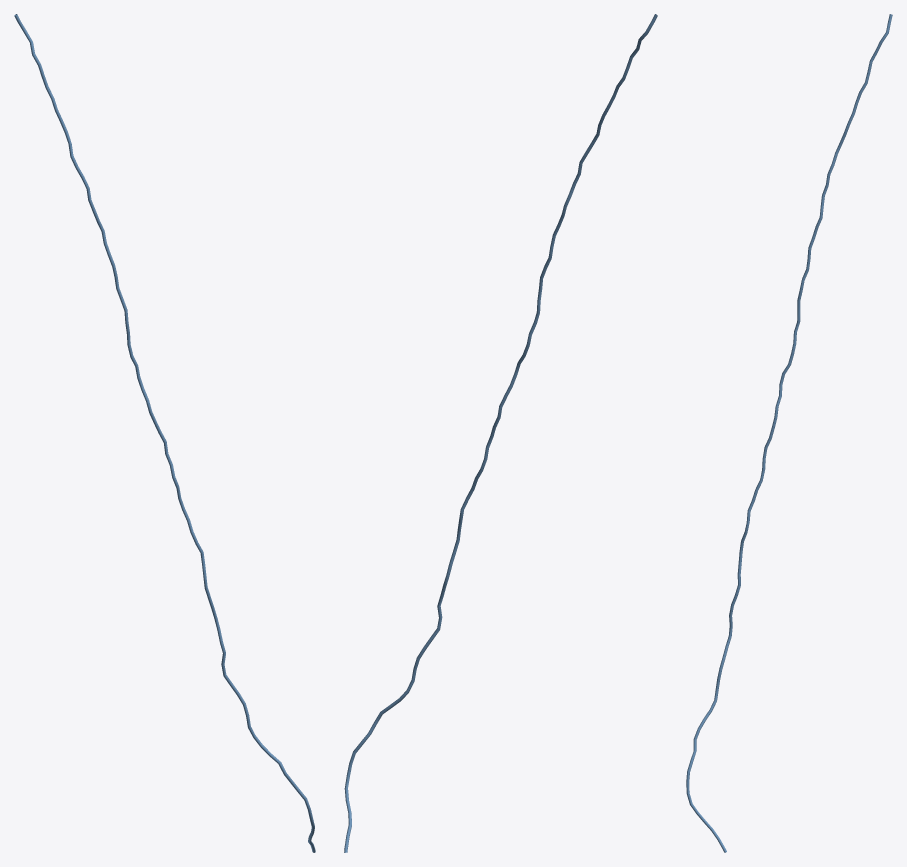
The model's file is sweep279.fbx.
3 renders of one model, left to right at view 1: azimuth 30°, elevation 25°; view 2: azimuth 210°, elevation 25°; view 3: azimuth 270°, elevation 25°, orthographic. The views are drawn at different scales.
Parts seen in each view (by area): view 1: sweep279; view 2: sweep279; view 3: sweep279.
Boxes of the visible parts, x1,y1,x2,y2 form: sweep279: [14, 14, 315, 852]; sweep279: [344, 14, 657, 852]; sweep279: [686, 14, 892, 852].
Bounding box in the file's own units: 1.42 × 5.3 × 1.33.
